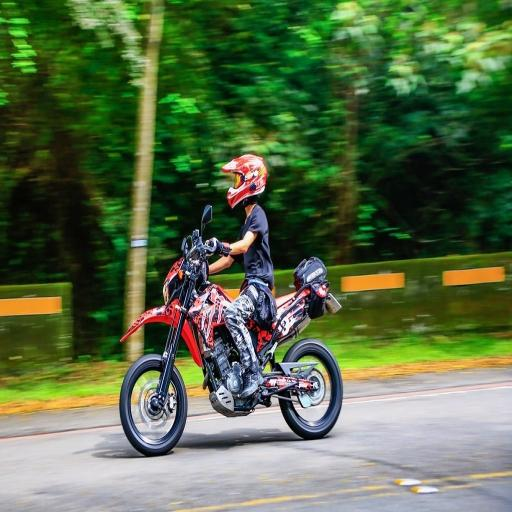Helmet: (221, 152, 269, 209)
